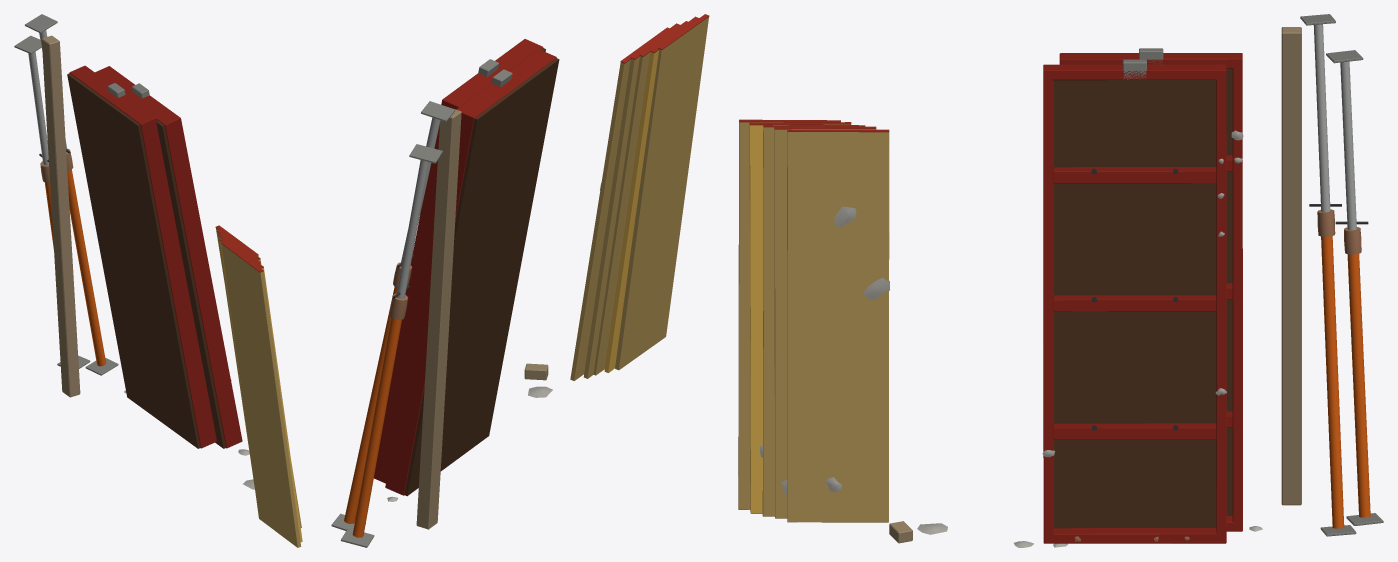
File: formwork.glb
The picture shows the model from 3 angles, left to right: view 1: azimuth 30°, elevation 25°; view 2: azimuth 150°, elevation 25°; view 3: azimuth 270°, elevation 25°; orthographic projection. The views are drawn at different scales.
Parts seen in each view (by area): view 1: teil4, teil5, teil0, teil12, teil9, teil7, teil10, teil3, teil1; view 2: teil0, teil4, teil5, teil12, teil9, teil3, teil7, teil10, teil1, teil11; view 3: teil4, teil0, teil5, teil12, teil9, teil3, teil10, teil7, teil2, teil1, teil11.
Boxes of the visible parts, bbox=[...] form: teil4: bbox=[67, 73, 225, 448]; teil5: bbox=[69, 65, 242, 448]; teil0: bbox=[216, 228, 301, 547]; teil12: bbox=[41, 35, 80, 397]; teil9: bbox=[44, 169, 106, 366]; teil7: bbox=[14, 14, 149, 375]; teil10: bbox=[28, 30, 67, 165]; teil3: bbox=[220, 241, 302, 542]; teil1: bbox=[215, 225, 263, 272]; teil0: bbox=[570, 17, 708, 380]; teil4: bbox=[404, 48, 559, 496]; teil5: bbox=[374, 39, 556, 495]; teil12: bbox=[416, 109, 548, 529]; teil9: bbox=[344, 287, 401, 537]; teil3: bbox=[604, 50, 658, 372]; teil7: bbox=[331, 59, 512, 547]; teil10: bbox=[396, 117, 440, 298]; teil1: bbox=[620, 14, 709, 63]; teil11: bbox=[389, 262, 412, 319]; teil4: bbox=[1053, 53, 1232, 528]; teil0: bbox=[738, 122, 889, 522]; teil5: bbox=[1043, 53, 1242, 543]; teil12: bbox=[889, 27, 1301, 543]; teil9: bbox=[1321, 236, 1370, 528]; teil3: bbox=[749, 124, 850, 513]; teil10: bbox=[1313, 24, 1356, 230]; teil7: bbox=[1122, 14, 1383, 536]; teil2: bbox=[760, 130, 1262, 547]; teil1: bbox=[739, 119, 889, 132]; teil11: bbox=[1317, 209, 1361, 254].
Size of the model in its own units: 0.7786 by 2.58 by 3.17.
